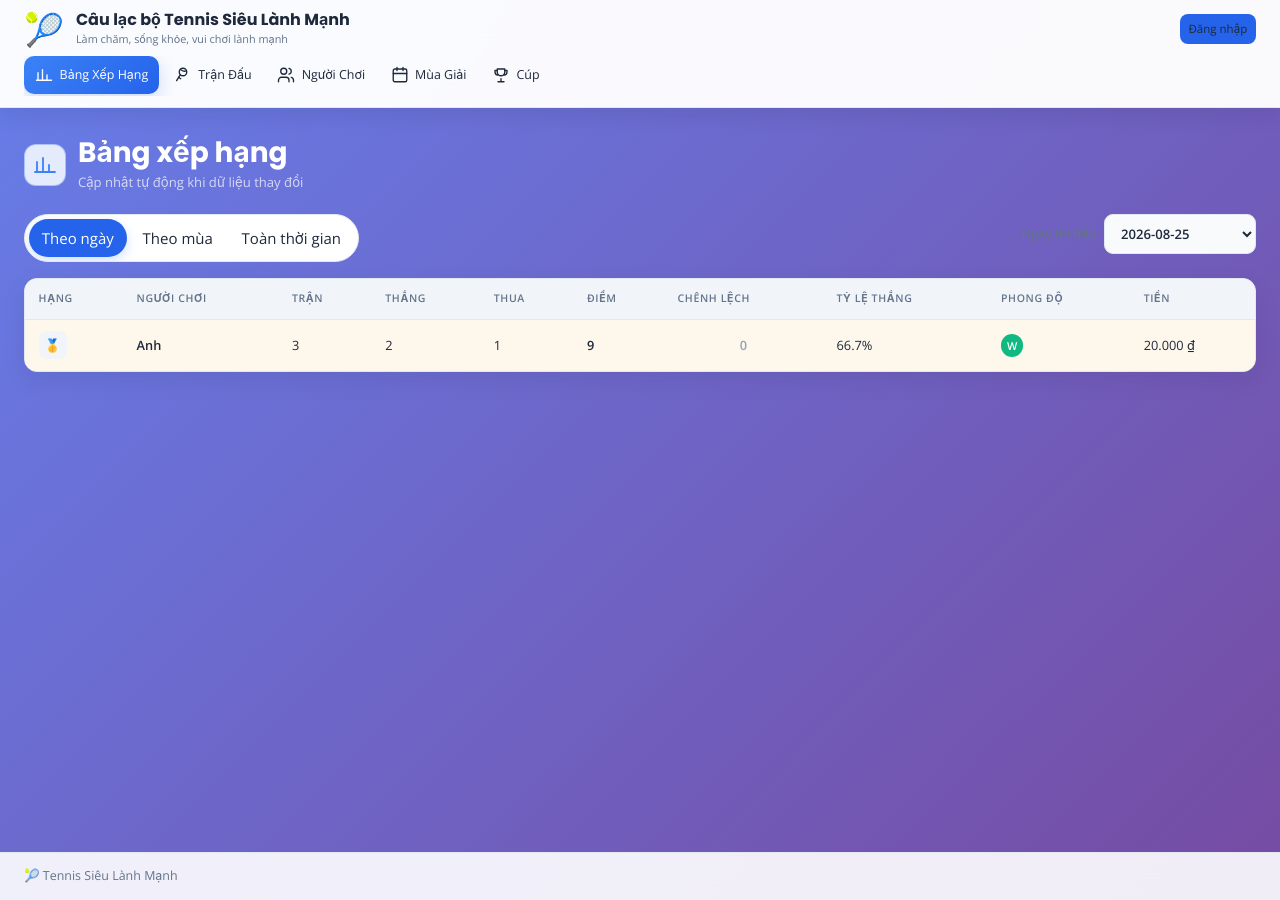
it: React application shell › loads initial data and navigates between React feature tabs
Check: the heading "Bảng xếp hạng" is shown, box [78,136,303,169]
Click the button "Người Chơi" at (321, 75), box [266,56,376,94]
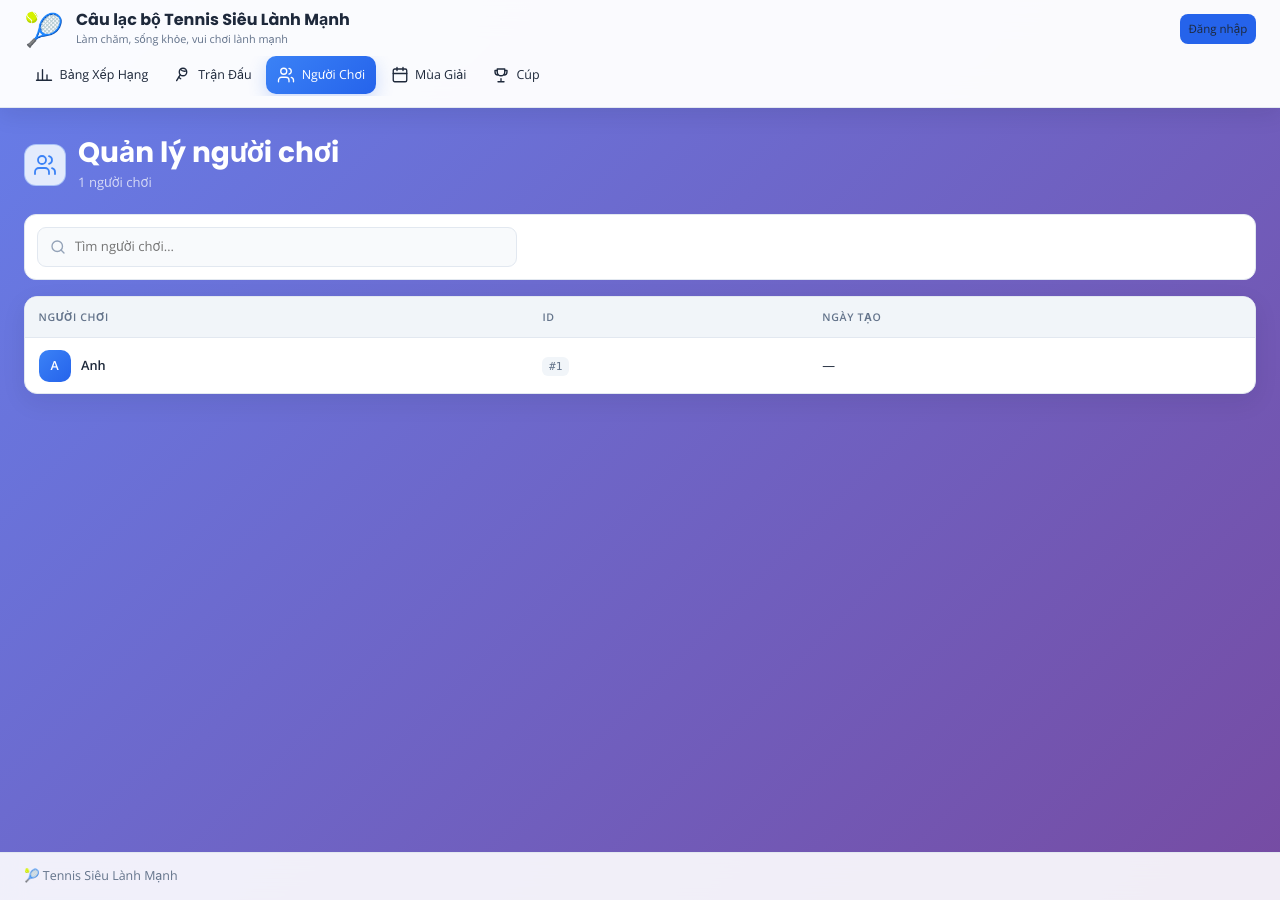
Check: the text "Anh" is shown, box [81,355,106,376]
Check: the heading "Quản lý người chơi" is shown, box [78,136,339,169]
